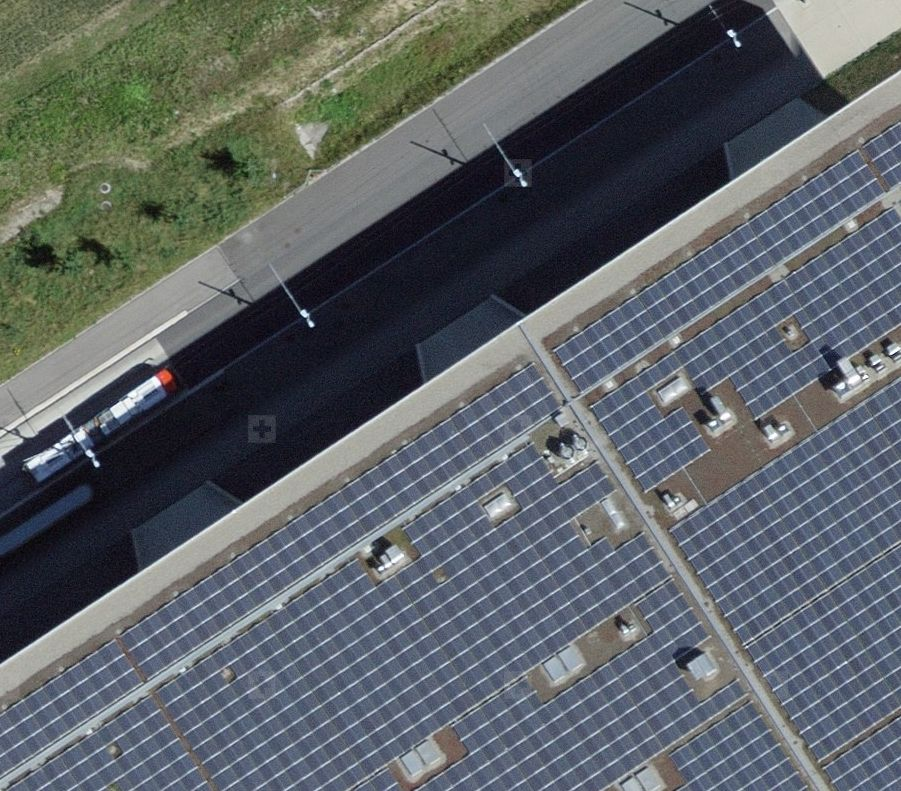solar: (3, 123, 900, 791)
